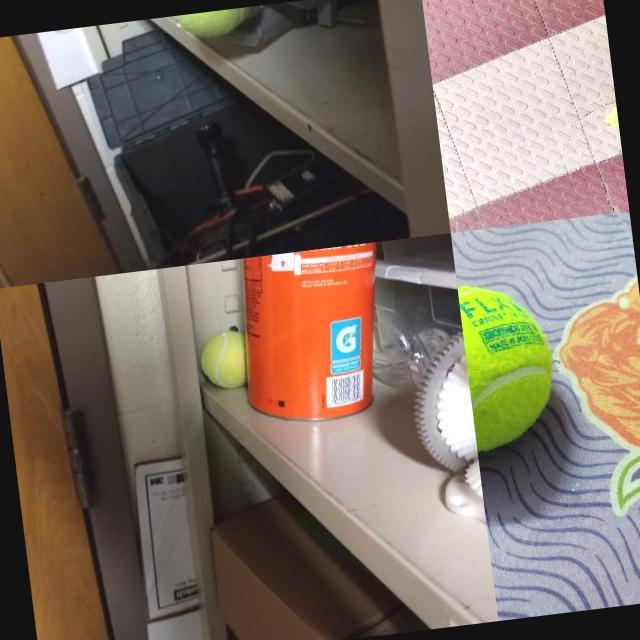Tennis Ball: (457, 276, 562, 452), (165, 5, 259, 42), (195, 328, 248, 391)
